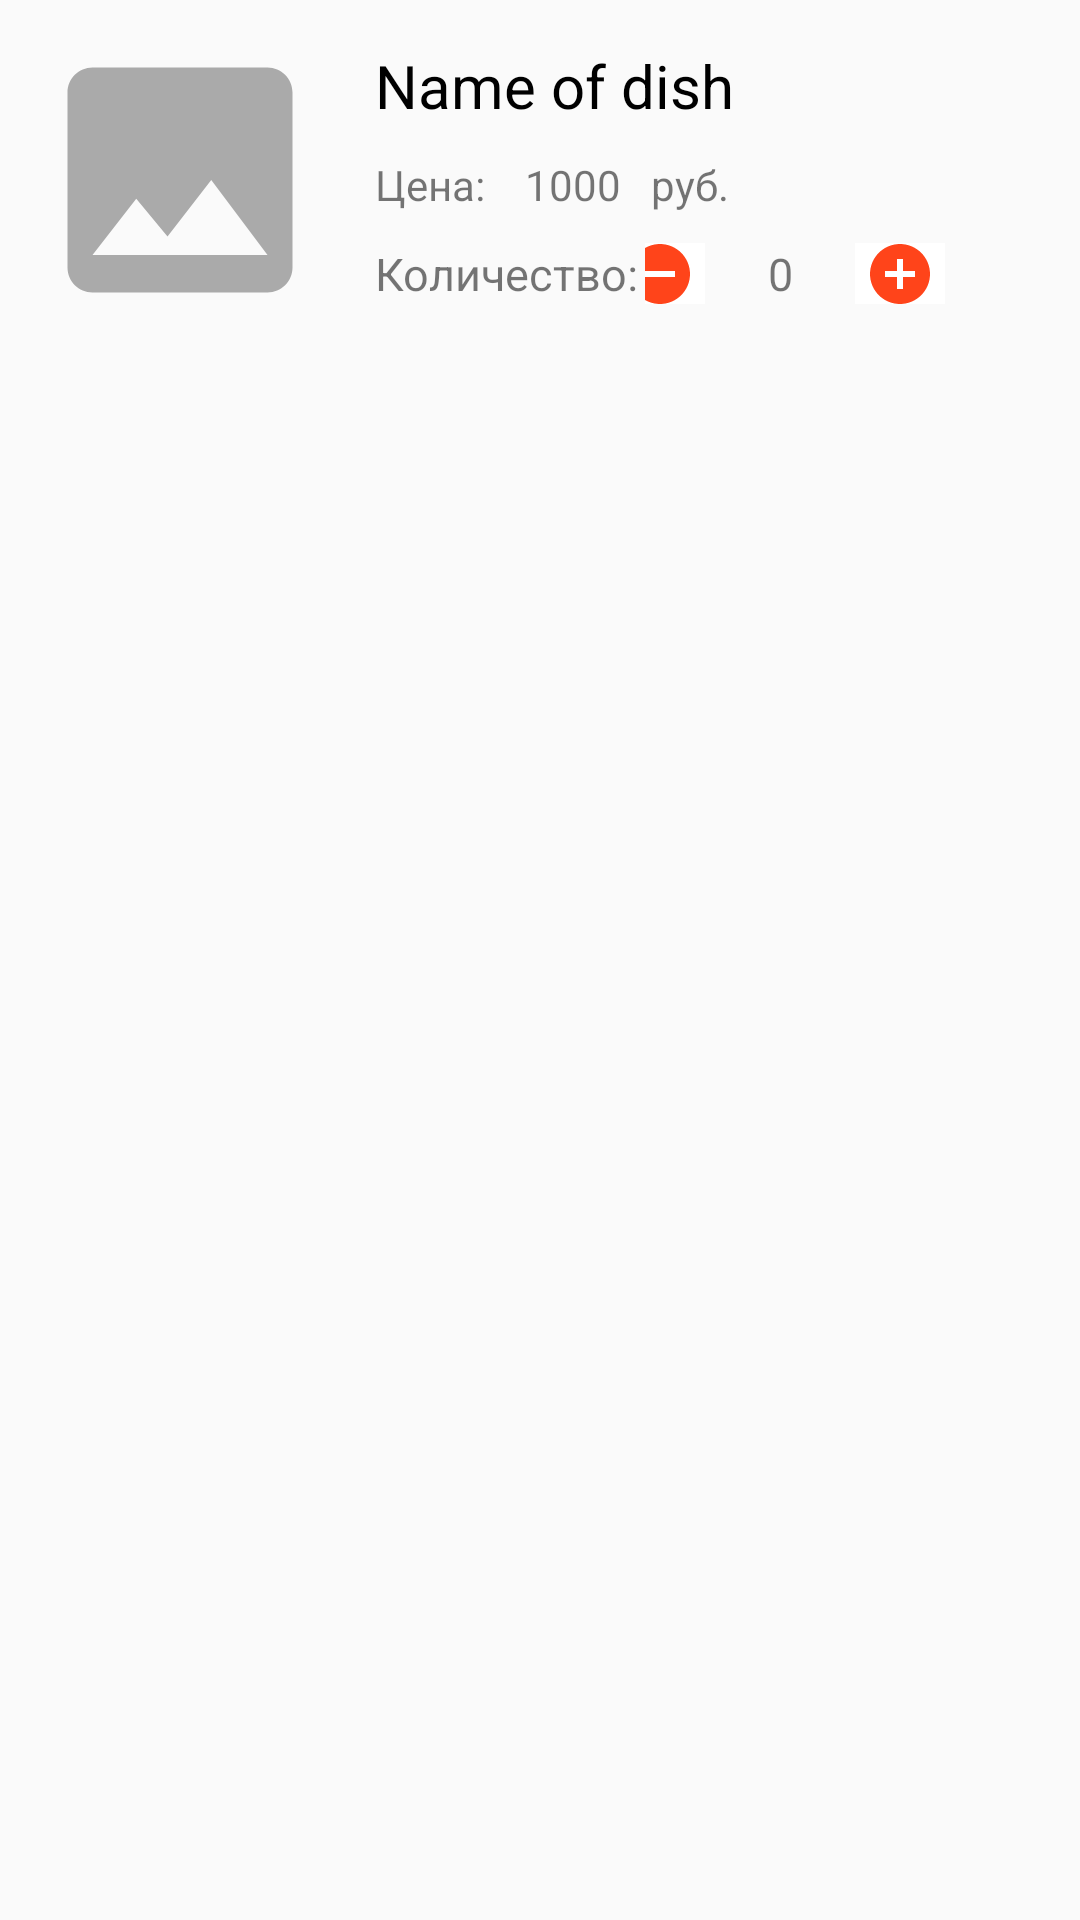

Locate icon controls on the screen. Image size 1080x1920, boxes as (x1, y1, x2, y2).
add circle: (870, 244, 930, 304)
photo: (67, 67, 293, 293)
